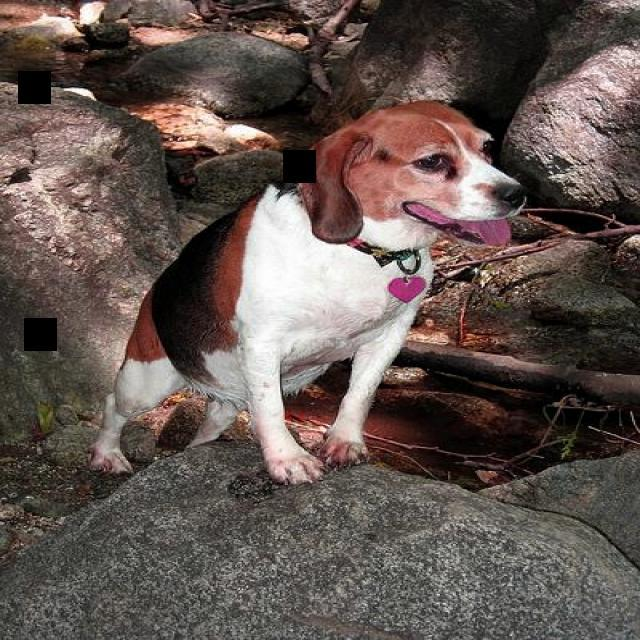adult_dog: (83, 96, 523, 486)
